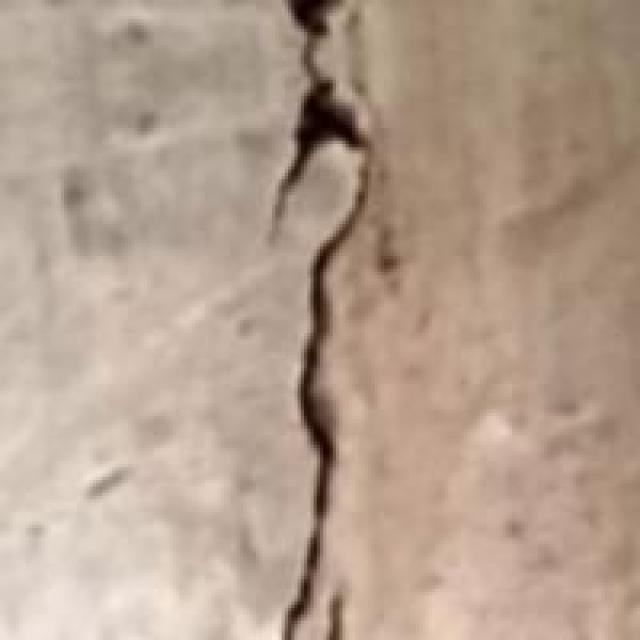Crack: (230, 0, 394, 637)
